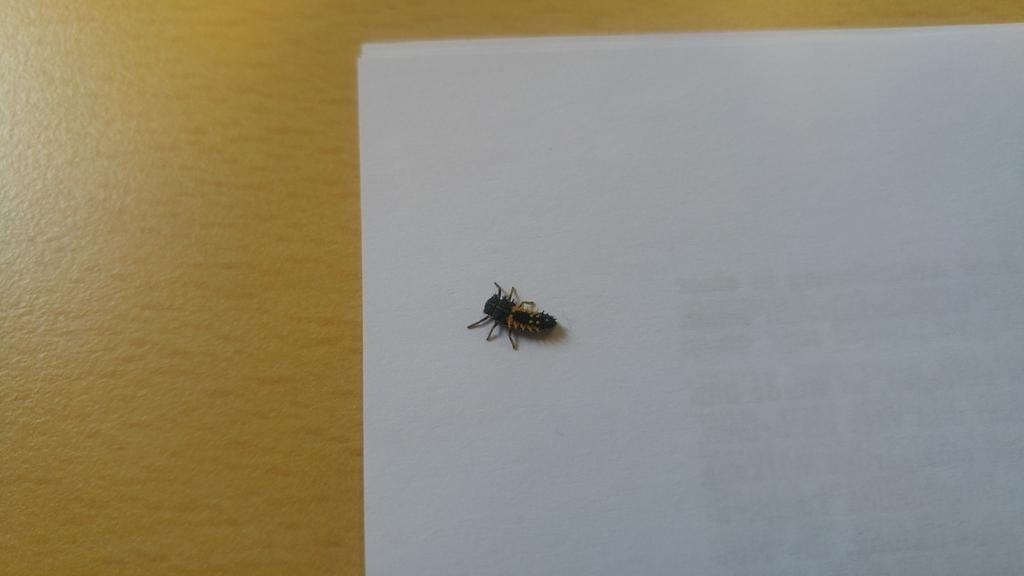ladybug: (466, 279, 563, 354)
